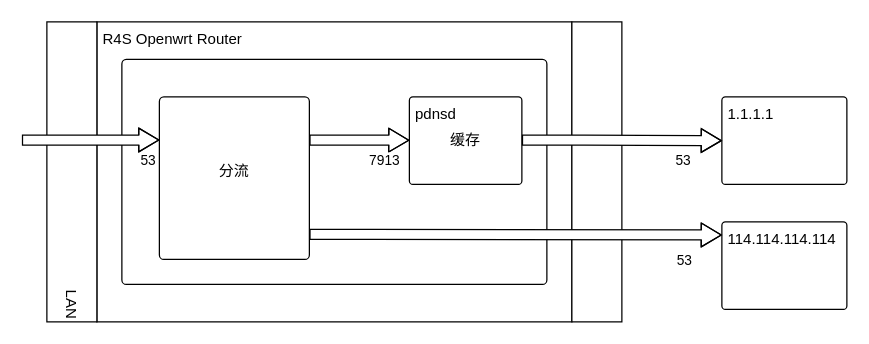
Image size: 869x344. Some labels were removed from this diagram. Here are the shapes that lost their labels. From the top down, the box of each, then its label:
(158, 96, 309, 259): dnsmasq
(121, 58, 547, 284): Passwall
(571, 21, 622, 322): WAN
